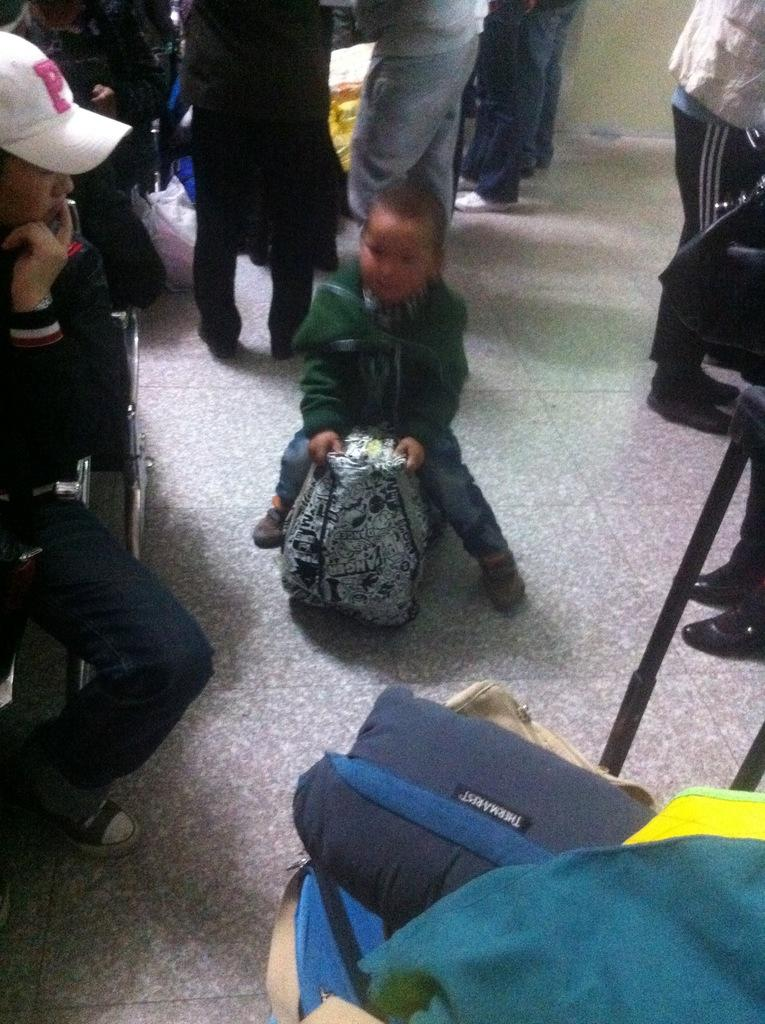Luggage-and-bags: (276, 697, 689, 952), (278, 429, 427, 628)
